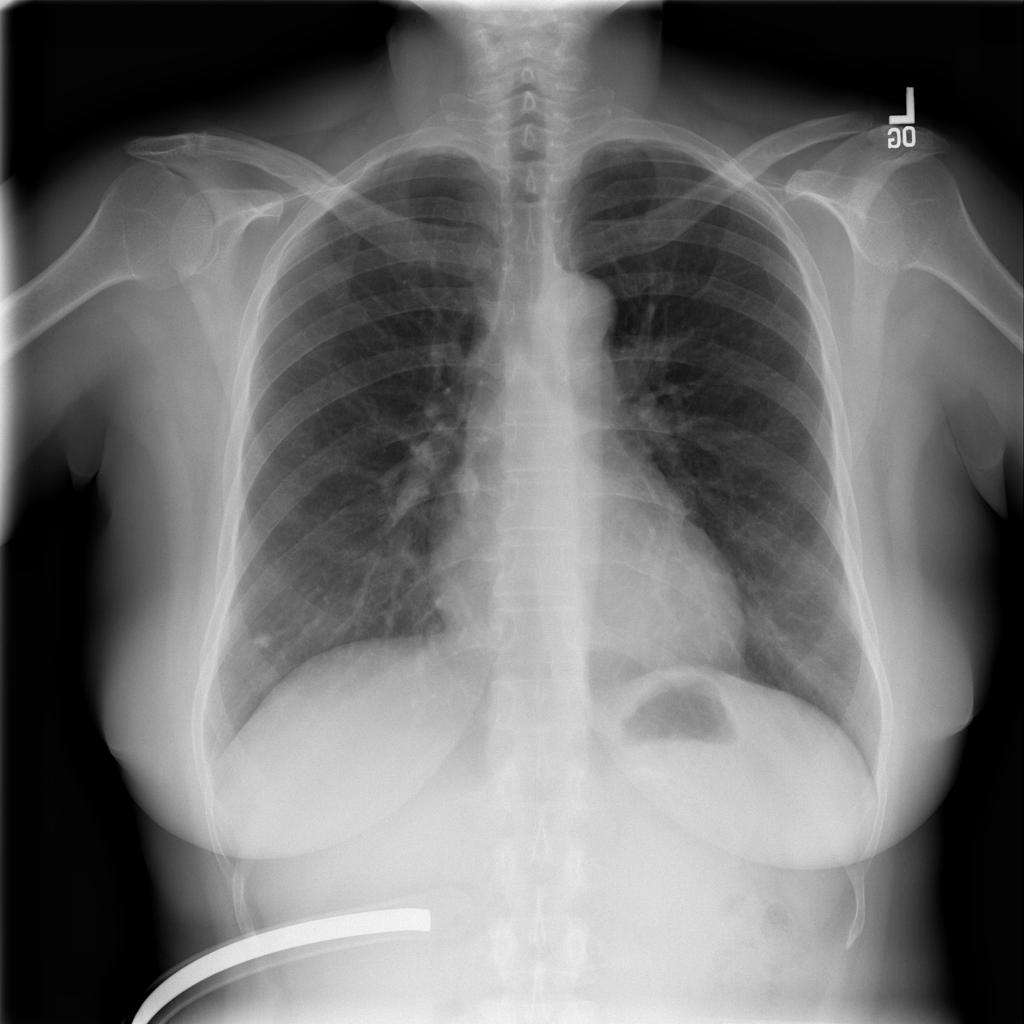nodule: (238, 616, 289, 666)
